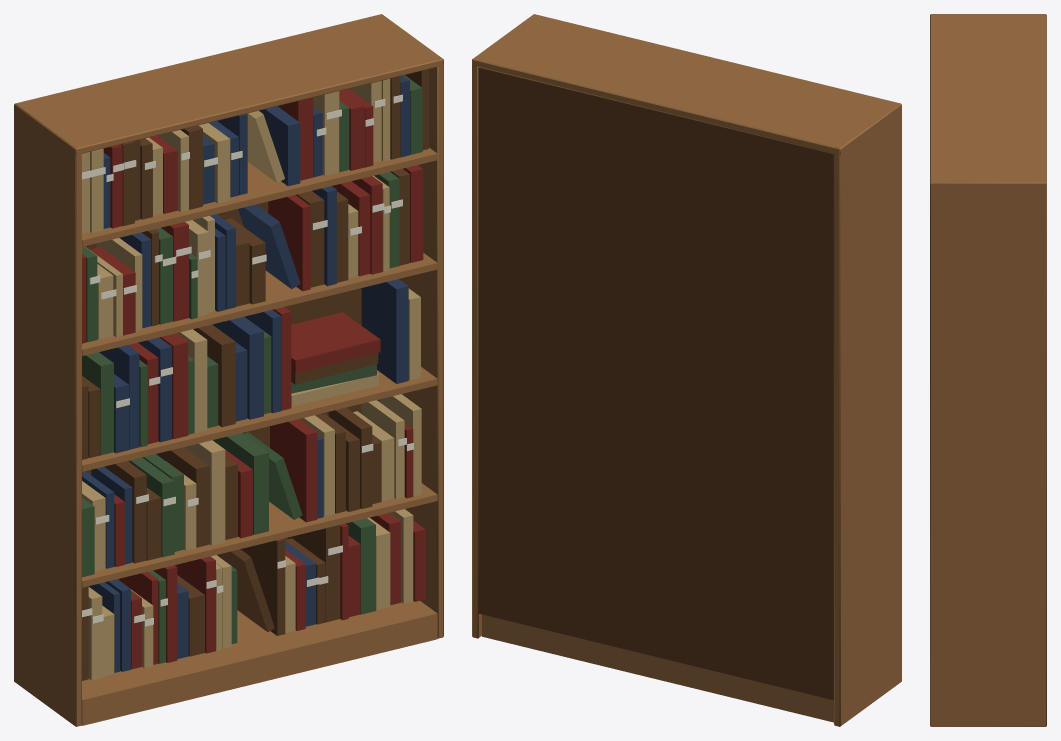
Rendered from bookshelf.glb.
3 renders of one model, left to right at view 1: azimuth 30°, elevation 25°; view 2: azimuth 150°, elevation 25°; view 3: azimuth 270°, elevation 25°, orthographic. The views are drawn at different scales.
Parts seen in each view (by area): view 1: Bookshelf; view 2: Bookshelf; view 3: Bookshelf.
Boxes of the visible parts, left/top/right/bottom form: Bookshelf: left=14, top=14, right=443, bottom=726; Bookshelf: left=472, top=14, right=901, bottom=726; Bookshelf: left=930, top=14, right=1046, bottom=726.
Size of the model in its own units: 1.2 by 1.8 by 0.35.
